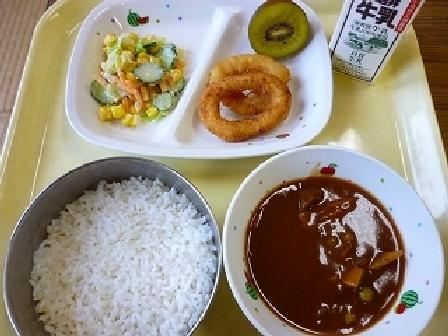Milk: (323, 0, 429, 78)
Rice: (6, 157, 221, 326)
Salad: (83, 28, 187, 128)
kiwi: (239, 3, 318, 51)
onion rings: (190, 53, 300, 140)
soup-plain: (229, 154, 430, 333)
